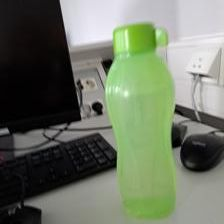bottle: (103, 20, 180, 218)
